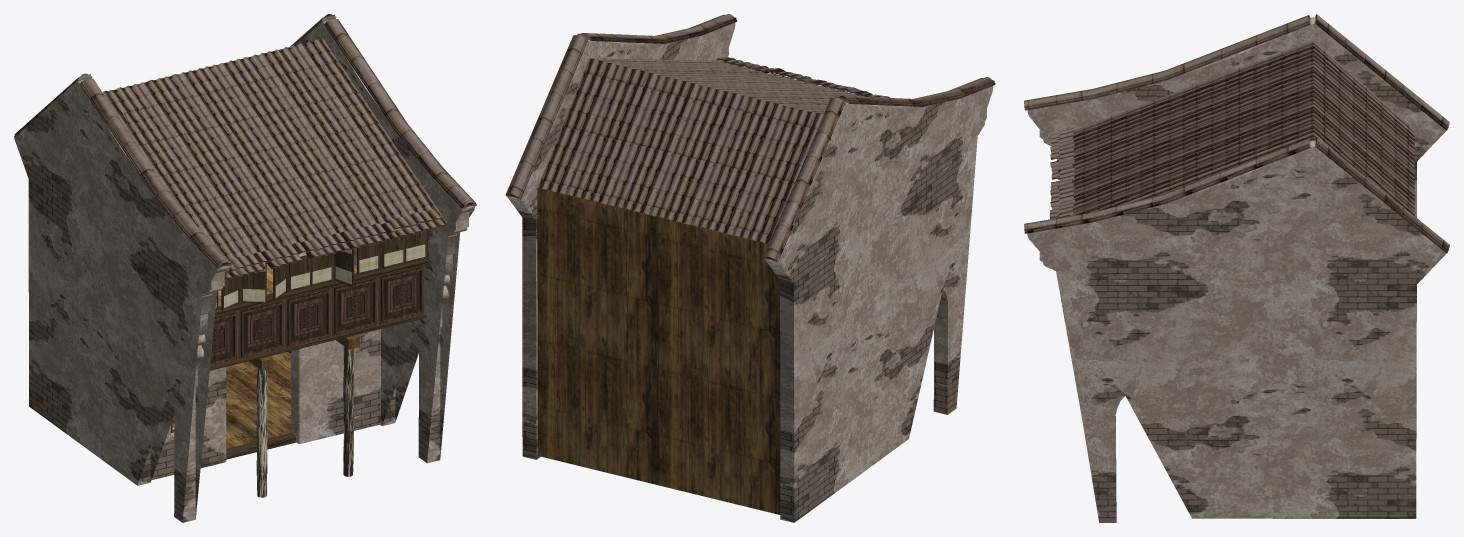
The model's file is house3_LOD0.FBX.
3 views of the same model, side by side, from view 1: azimuth 30°, elevation 25°; view 2: azimuth 150°, elevation 25°; view 3: azimuth 270°, elevation 25° (orthographic). The views are drawn at different scales.
Parts seen in each view (by area): view 1: walls_LOD0, roof_LOD0, rooftiles_LOD0, front_panels_LOD0, windowframes_LOD0, backwall_LOD0, column1_LOD0, paperwindows_LOD0, window_LOD0; view 2: walls_LOD0, backwall_LOD0, roof_LOD0, rooftiles_LOD0; view 3: walls_LOD0, roof_LOD0, rooftiles_LOD0.
Part boxes in pixels (x1,y1,x2,y2): walls_LOD0: [14, 19, 474, 522]; roof_LOD0: [102, 39, 442, 260]; rooftiles_LOD0: [14, 14, 476, 280]; front_panels_LOD0: [210, 265, 425, 365]; windowframes_LOD0: [215, 227, 428, 316]; backwall_LOD0: [172, 352, 290, 448]; column1_LOD0: [256, 346, 353, 497]; paperwindows_LOD0: [215, 223, 425, 307]; window_LOD0: [171, 313, 426, 459]; walls_LOD0: [507, 23, 993, 522]; backwall_LOD0: [537, 187, 780, 514]; roof_LOD0: [537, 58, 864, 243]; rooftiles_LOD0: [505, 14, 995, 262]; walls_LOD0: [1027, 17, 1446, 522]; roof_LOD0: [1072, 40, 1414, 215]; rooftiles_LOD0: [1024, 14, 1449, 253].
Size of the model in its own units: 558 by 762 by 770.
